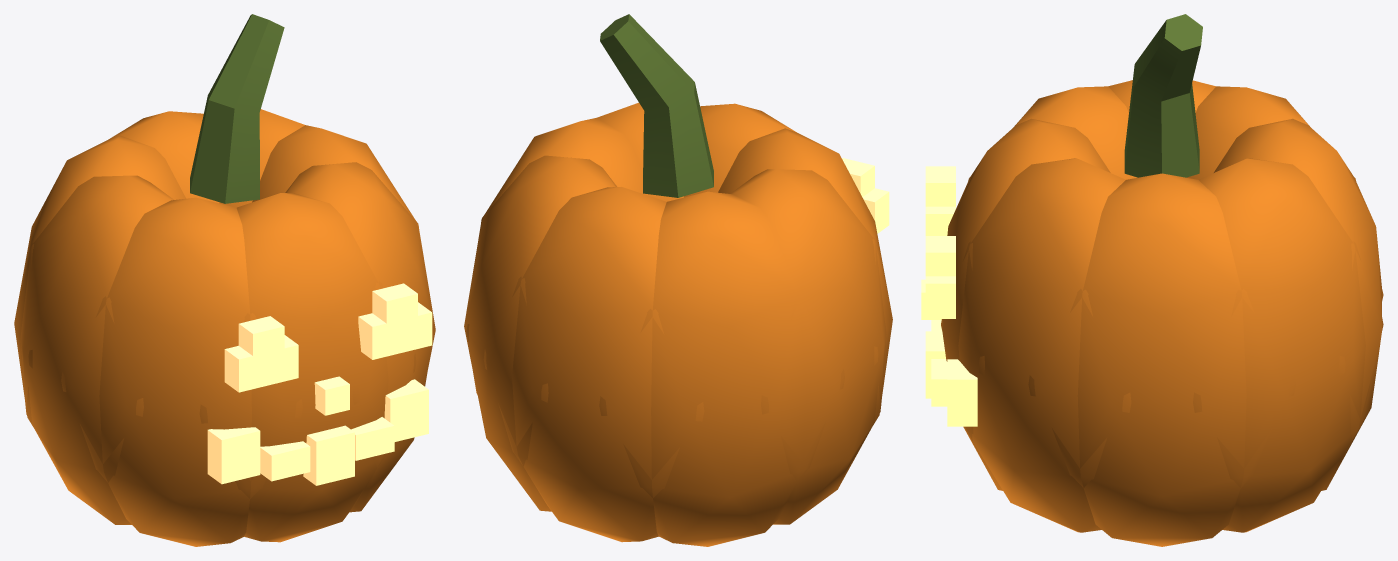
The model's file is JackOLantern.fbx.
The picture shows the model from 3 angles, left to right: view 1: azimuth 30°, elevation 25°; view 2: azimuth 150°, elevation 25°; view 3: azimuth 270°, elevation 25°; orthographic projection. The views are drawn at different scales.
Visible parts, largest first — view 1: JackOLantern_Pumpkin, JackOLantern_Glow, JackOLantern_Vine; view 2: JackOLantern_Pumpkin, JackOLantern_Vine, JackOLantern_Glow; view 3: JackOLantern_Pumpkin, JackOLantern_Vine, JackOLantern_Glow.
Part boxes in pixels (<box>): JackOLantern_Pumpkin: <box>14,109,435,546</box>; JackOLantern_Glow: <box>207,283,432,485</box>; JackOLantern_Vine: <box>190,14,284,203</box>; JackOLantern_Pumpkin: <box>464,102,892,546</box>; JackOLantern_Vine: <box>600,14,713,197</box>; JackOLantern_Glow: <box>842,158,889,233</box>; JackOLantern_Pumpkin: <box>941,80,1383,546</box>; JackOLantern_Vine: <box>1124,14,1202,177</box>; JackOLantern_Glow: <box>921,166,977,426</box>.
Bounding box in the file's own units: 204 × 256 × 213.
